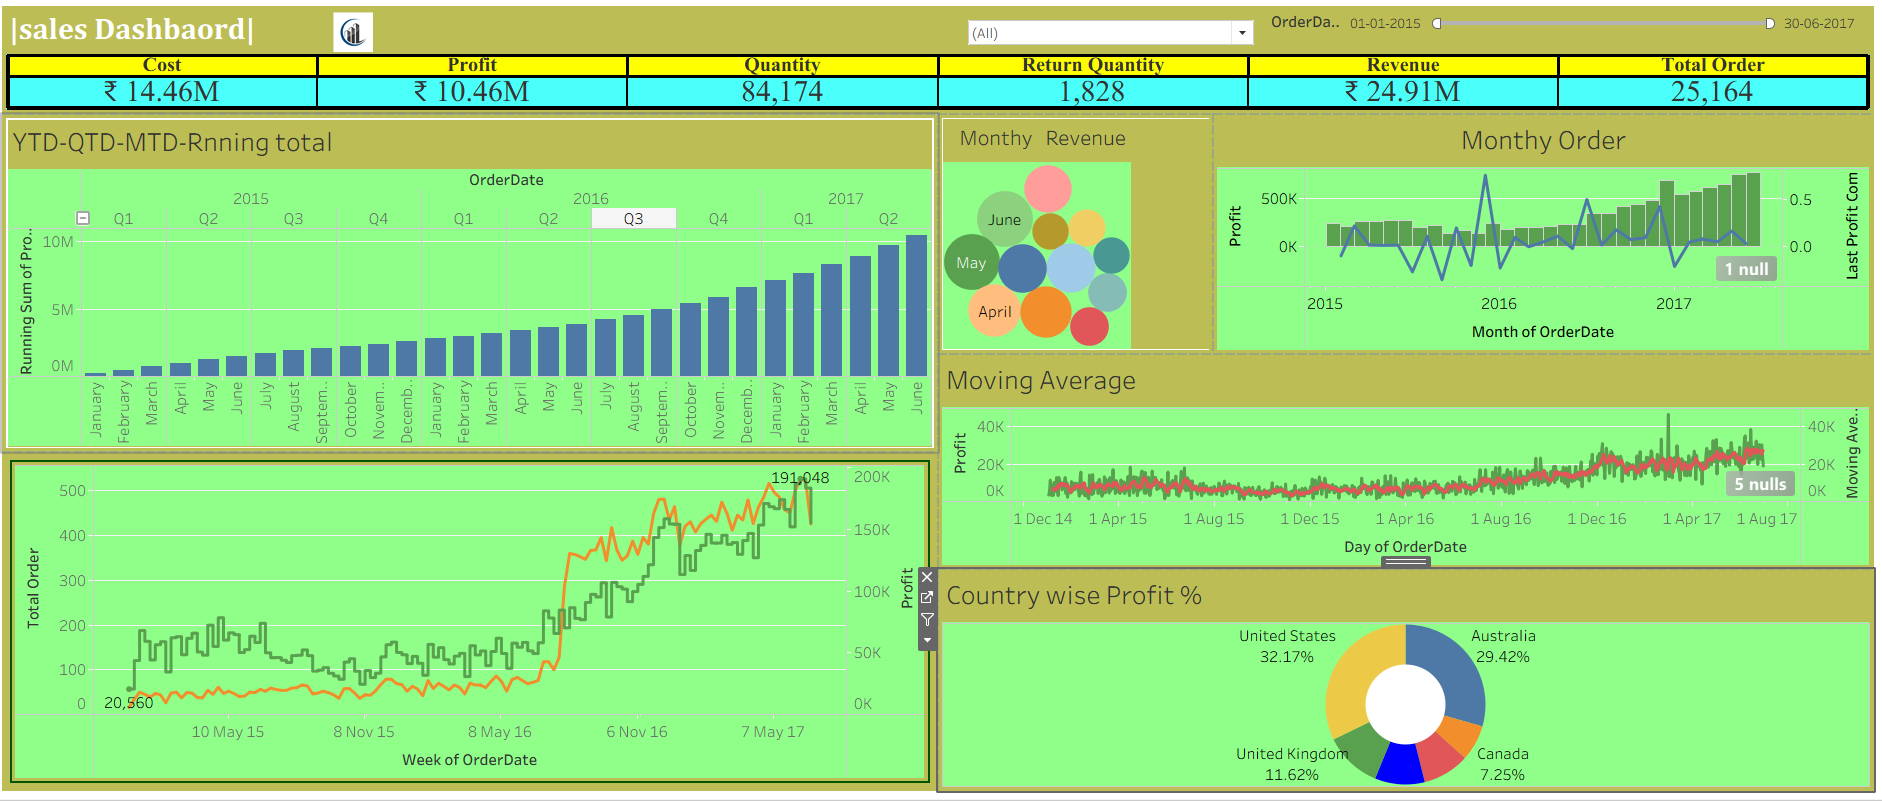

Layout of this report page (visuals, bound fields, positions):
{"tool":"tableau","page":{"name":"Dashboard 1","canvas":[1000,1000],"units":"permille","ordinal":0},"visuals":[{"type":"title","box":[4.8,9.7,990.3,53.2]},{"type":"filter","title":"Monthly country Revenue","param":"[federated.00yg6ks1p3sku61dbfizd1hsodvo].[none:OrderDate:qk]","box":[676.5,16.2,314,50.1]},{"type":"image","param":"Image/pngtree-building-and-construction-vector-illustration-element-logo-design-","box":[166.5,17.7,47.7,50.1]},{"type":"filter","title":"Monthly country Revenue","param":"[federated.00yg6ks1p3sku61dbfizd1hsodvo].[none:CategoryName:nk]","box":[514.3,23.6,154.8,38.3]},{"type":"worksheet","title":"Card","mark":"Automatic","box":[4.8,62.9,990.3,79.7]},{"type":"worksheet","title":"YTD-QTD-MTD-Rnning total","mark":"Bar","cols":["OrderDate","OrderDate","OrderDate"],"box":[4.8,142.6,495.1,423.9]},{"type":"worksheet","title":"Monthly country Revenue","mark":"Circle","box":[499.9,142.6,247.6,300.8]},{"type":"worksheet","title":"KPI","mark":"Automatic","rows":["Calculation_663717997759844355","Calculation_503277262450171904"],"cols":["OrderDate"],"box":[747.5,142.6,247.7,300.8]},{"type":"worksheet","title":"Moving Average","mark":"Automatic","rows":["Calculation_663717997759844355"],"cols":["OrderDate"],"box":[499.9,443.4,495.3,268.6]},{"type":"worksheet","title":"Weekly order/Profit flow","mark":"Automatic","rows":["Calculation_973340473933398026","Calculation_663717997759844355"],"cols":["OrderDate"],"box":[4.8,566.5,495.1,423.9]},{"type":"worksheet","title":"Country wise Profit %","mark":"Pie","rows":["Calculation_503277262471745548","Calculation_503277262471745548"],"box":[499.9,711.9,495.3,278.4]}]}

Visuals, with their boxes on the dashboard's canvas, which has no fixed pixel size, in thousandths of its width and height (x1, y1, x2, y2). These are canvas units, not pixel positions in the 1882x801 screenshot, which may show the page scaled, cropped or inside an application window:
title: Rect(5, 10, 995, 63)
"Monthly country Revenue" filter: Rect(676, 16, 990, 66)
image: Rect(166, 18, 214, 68)
"Monthly country Revenue" filter: Rect(514, 24, 669, 62)
"Card" worksheet: Rect(5, 63, 995, 143)
"YTD-QTD-MTD-Rnning total" worksheet (Bar marks): Rect(5, 143, 500, 566)
"Monthly country Revenue" worksheet (Circle marks): Rect(500, 143, 748, 443)
"KPI" worksheet: Rect(748, 143, 995, 443)
"Moving Average" worksheet: Rect(500, 443, 995, 712)
"Weekly order/Profit flow" worksheet: Rect(5, 566, 500, 990)
"Country wise Profit %" worksheet (Pie marks): Rect(500, 712, 995, 990)
